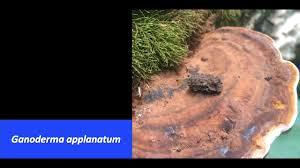Ganoderma - Fruit Body: (131, 24, 298, 157)
